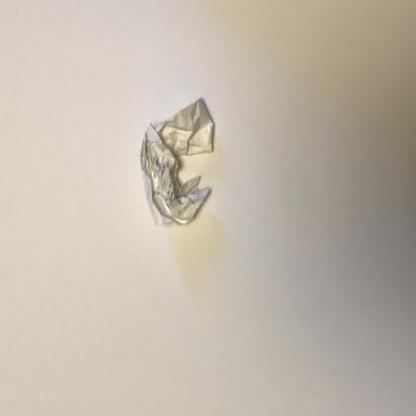trash: (136, 95, 218, 226)
